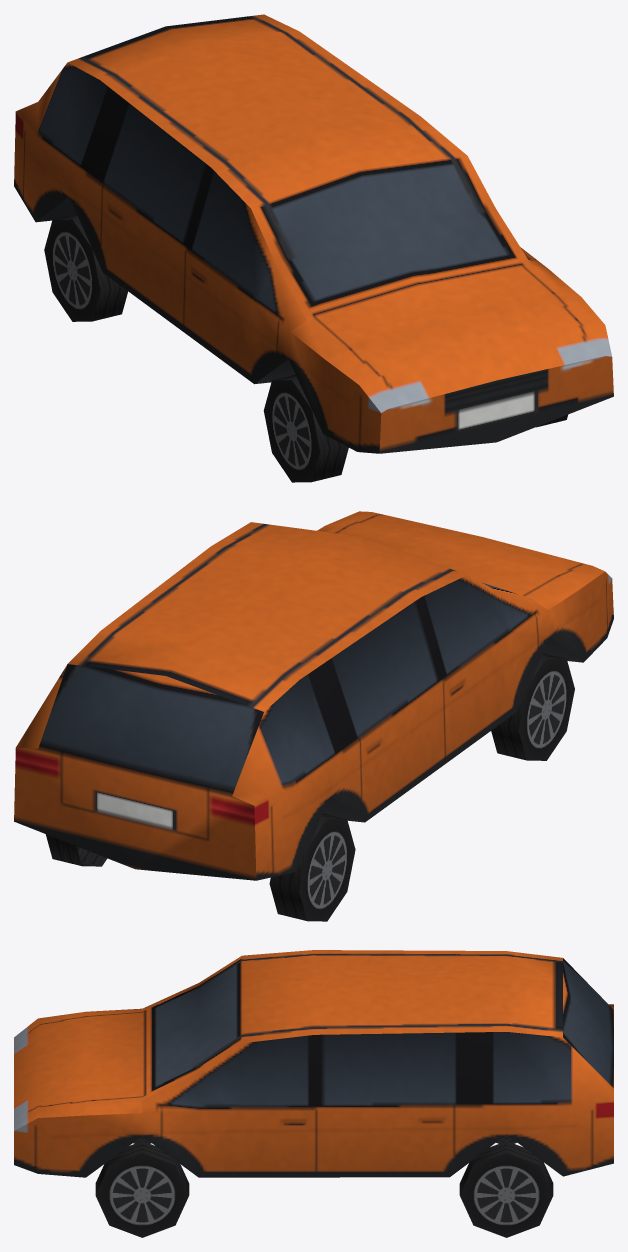
Rendered from SM_Morin_Auto_B_v2_Arancio_LOD2.fbx.
The picture shows the model from 3 angles, top to bottom: view 1: azimuth 30°, elevation 25°; view 2: azimuth 150°, elevation 25°; view 3: azimuth 270°, elevation 25°; orthographic projection. The views are drawn at different scales.
Visible parts, largest first — view 1: SM_Morin_Auto_B_v2_Arancio_LOD2; view 2: SM_Morin_Auto_B_v2_Arancio_LOD2; view 3: SM_Morin_Auto_B_v2_Arancio_LOD2.
Boxes of the visible parts, bbox=[...] form: SM_Morin_Auto_B_v2_Arancio_LOD2: bbox=[14, 14, 613, 482]; SM_Morin_Auto_B_v2_Arancio_LOD2: bbox=[14, 511, 613, 921]; SM_Morin_Auto_B_v2_Arancio_LOD2: bbox=[14, 950, 613, 1237].
Size of the model in its own units: 182 by 435 by 164.
1 material, 1 textured.
